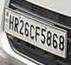2: (19, 19, 24, 35)
5: (40, 28, 46, 44)
6: (52, 33, 58, 49), (24, 21, 29, 37)
8: (59, 34, 65, 52), (46, 30, 52, 47)
C: (29, 23, 35, 40)
F: (35, 25, 40, 41)
H: (8, 15, 14, 30)
R: (14, 15, 20, 33)
